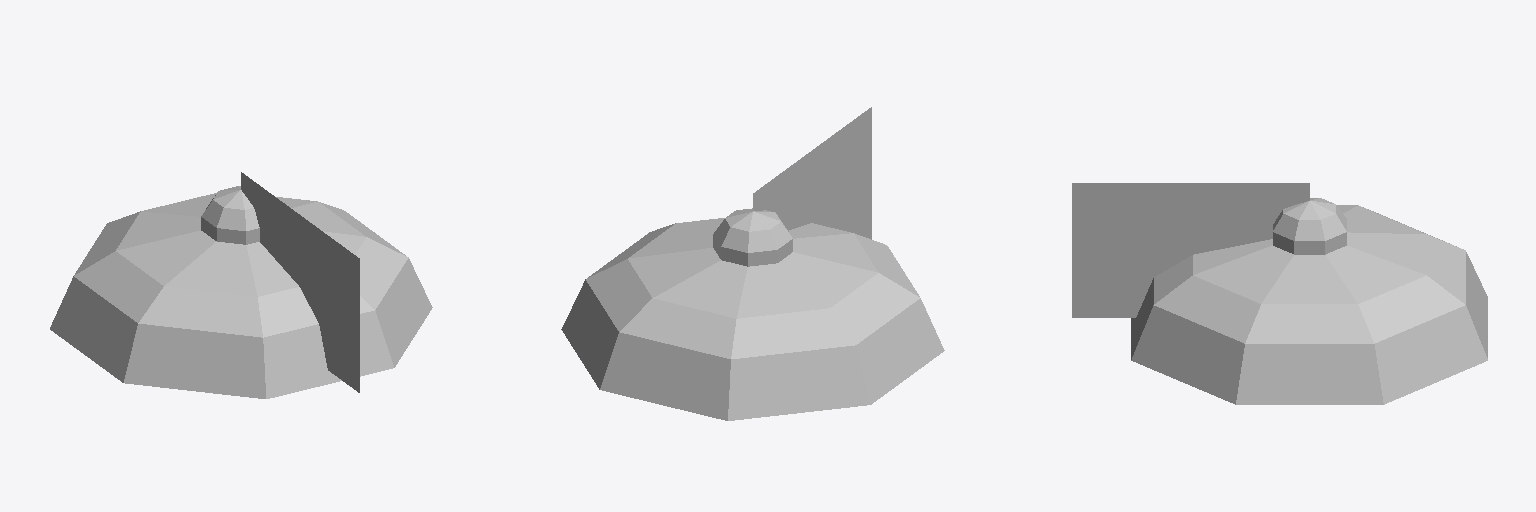
File: street_lamp_wall.obj
3 renders of one model, left to right at view 1: azimuth 30°, elevation 25°; view 2: azimuth 150°, elevation 25°; view 3: azimuth 270°, elevation 25°, orthographic.
Visible parts, largest first — view 1: main_inner, main_outer, Support, Middle; view 2: main_inner, main_outer, Support, Middle; view 3: main_inner, Support, main_outer, Middle.
Part boxes in pixels (x1,y1,x2,y2): main_inner: (50, 193, 432, 398); main_outer: (50, 194, 431, 398); Support: (241, 172, 359, 392); Middle: (201, 186, 259, 244); main_inner: (561, 218, 943, 420); main_outer: (564, 218, 944, 420); Support: (753, 107, 871, 239); Middle: (713, 208, 792, 266); main_inner: (1131, 205, 1487, 404); Support: (1072, 183, 1309, 317); main_outer: (1131, 206, 1487, 404); Middle: (1273, 198, 1346, 254).
Size of the model in its own units: 0.75 by 0.3398 by 0.875.